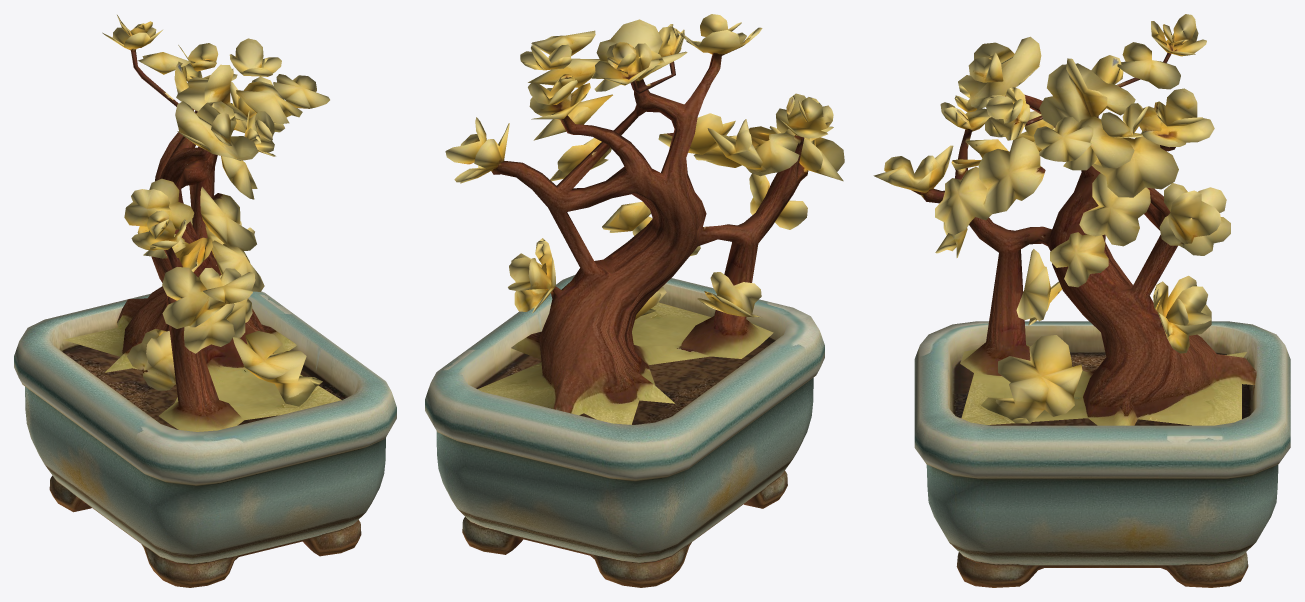
The model's file is 金色花.fbx.
The picture shows the model from 3 angles, left to right: view 1: azimuth 30°, elevation 25°; view 2: azimuth 150°, elevation 25°; view 3: azimuth 270°, elevation 25°; orthographic projection. The views are drawn at different scales.
Visible parts, largest first — view 1: tripo_node_ffe480fc; view 2: tripo_node_ffe480fc; view 3: tripo_node_ffe480fc.
Part boxes in pixels (box(x1,y1,x2,y2)): tripo_node_ffe480fc: box(14, 15, 396, 587); tripo_node_ffe480fc: box(425, 14, 844, 587); tripo_node_ffe480fc: box(873, 14, 1290, 587).
Size of the model in its own units: 55.27 by 75.2 by 99.8.
1 material, 1 textured.
